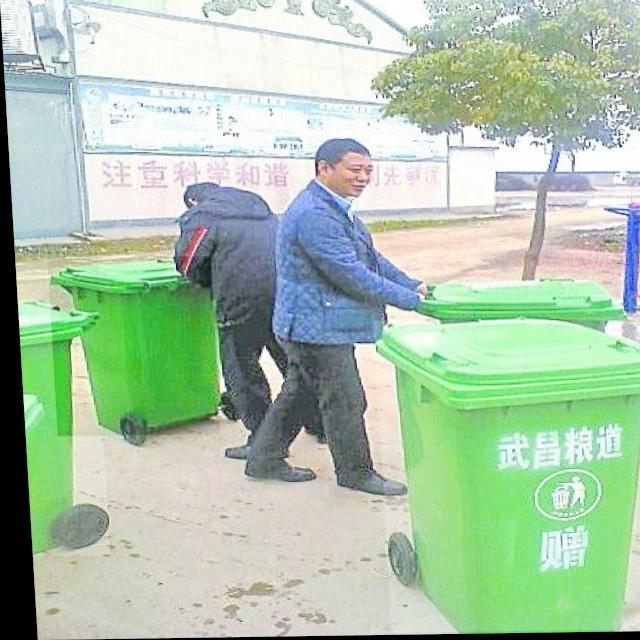garbage_bin: (369, 318, 640, 634), (44, 257, 215, 437), (14, 300, 103, 556)
